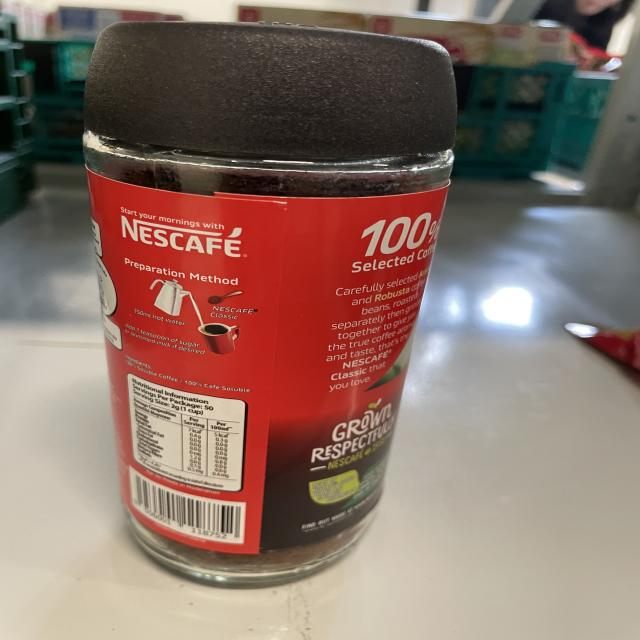object_name: (90, 29, 412, 577)
